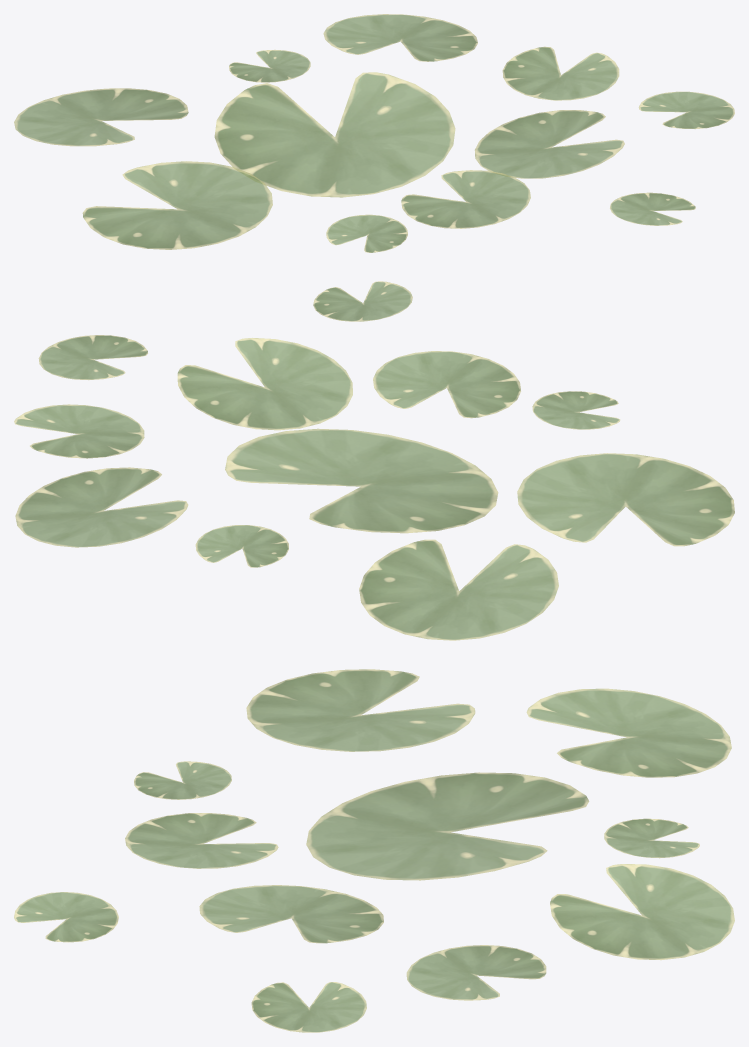
File: SM_Water_Lilies_C.glb
3 views of the same model, one above another, from view 1: azimuth 30°, elevation 25°; view 2: azimuth 150°, elevation 25°; view 3: azimuth 270°, elevation 25° (orthographic). The views are drawn at different scales.
Parts seen in each view (by area): view 1: SM_Water_Lilies_C; view 2: SM_Water_Lilies_C; view 3: SM_Water_Lilies_C.
Part boxes in pixels (x1,y1,x2,y2): SM_Water_Lilies_C: (14, 14, 734, 252); SM_Water_Lilies_C: (14, 281, 734, 640); SM_Water_Lilies_C: (14, 669, 734, 1032).
Bounding box in the file's own units: 2.24 × 0.0971 × 1.9.
Materials: 1 (1 with a texture image).
